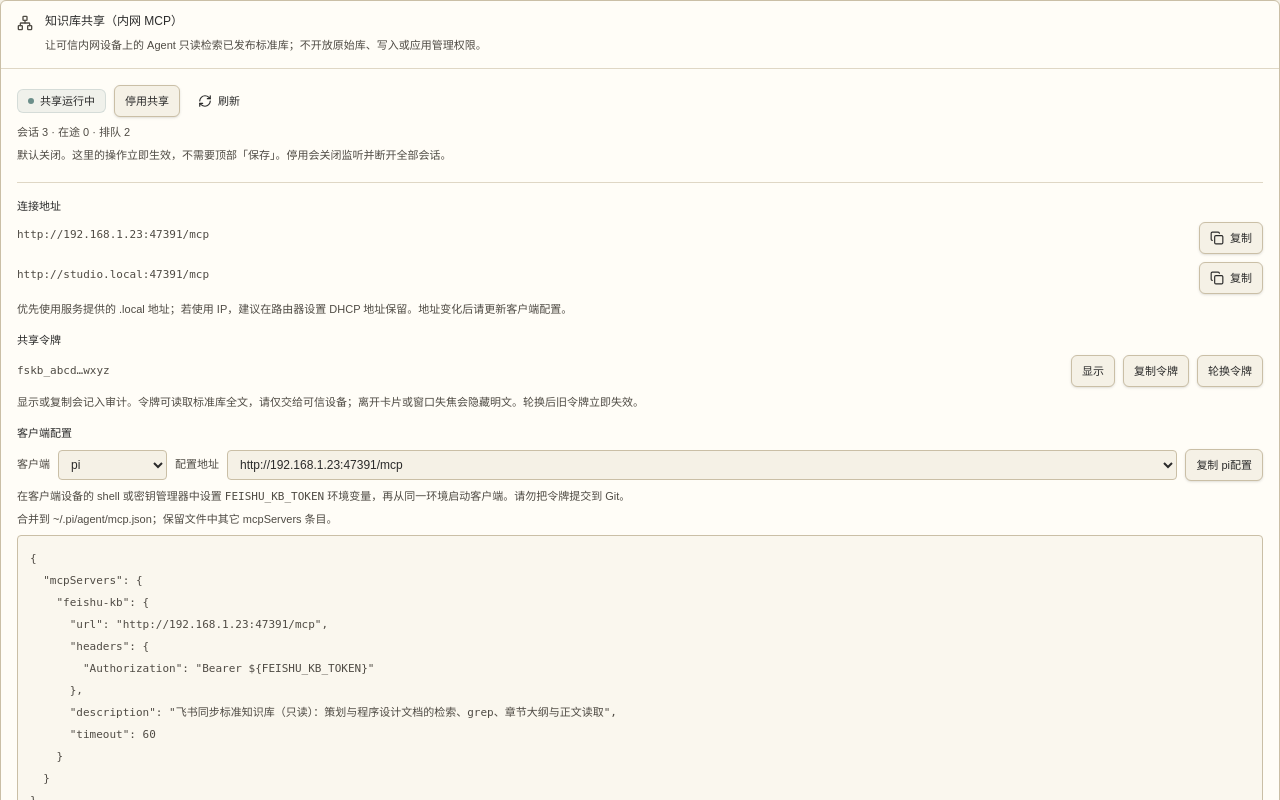
Test: 内网 MCP 设置交互（模拟管理 API） › 停用可选作废令牌，完成后从权威状态隐藏连接信息
The width and height of the screenshot is (1280, 800).
Click the button "停用共享". click: [147, 101]
box: [114,85,180,117]
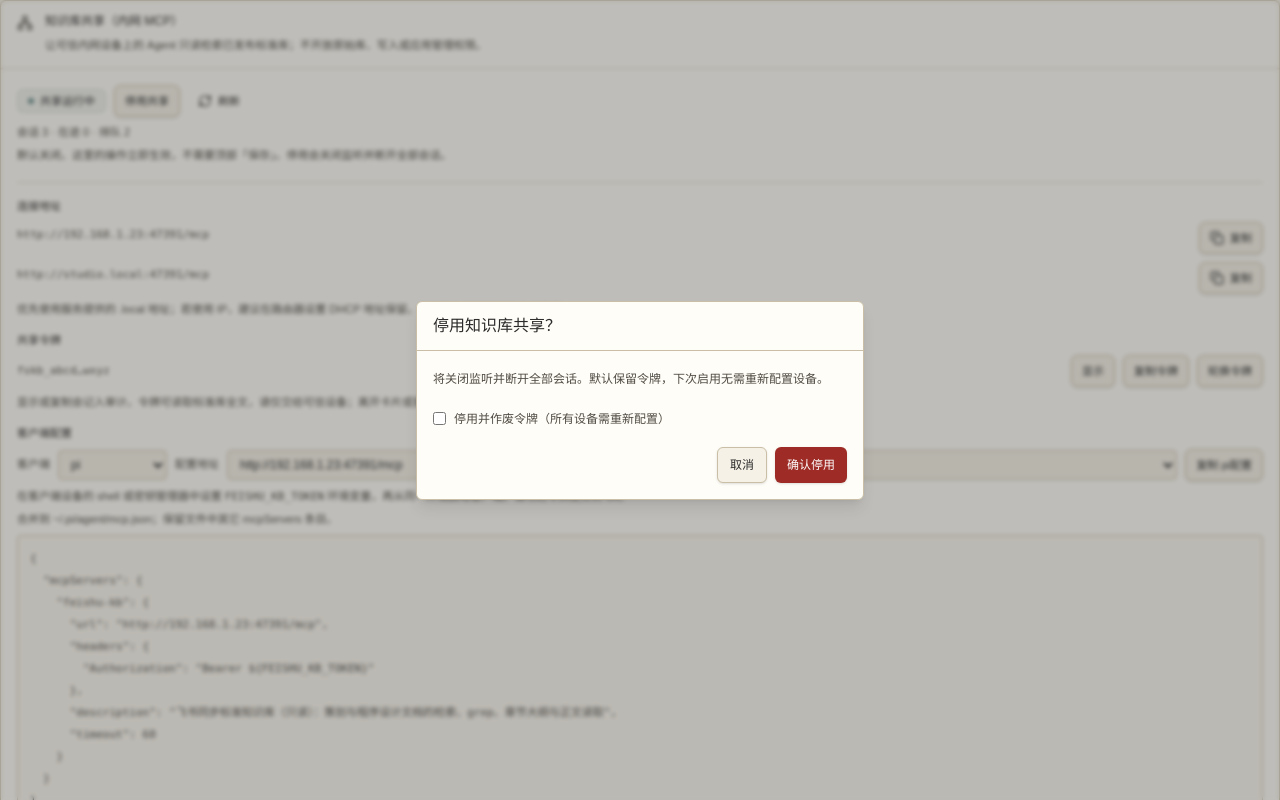
Click the checkbox labelled "停用并作废令牌（所有设备需重新配置）". click: [440, 418]
box: [433,412,446,425]
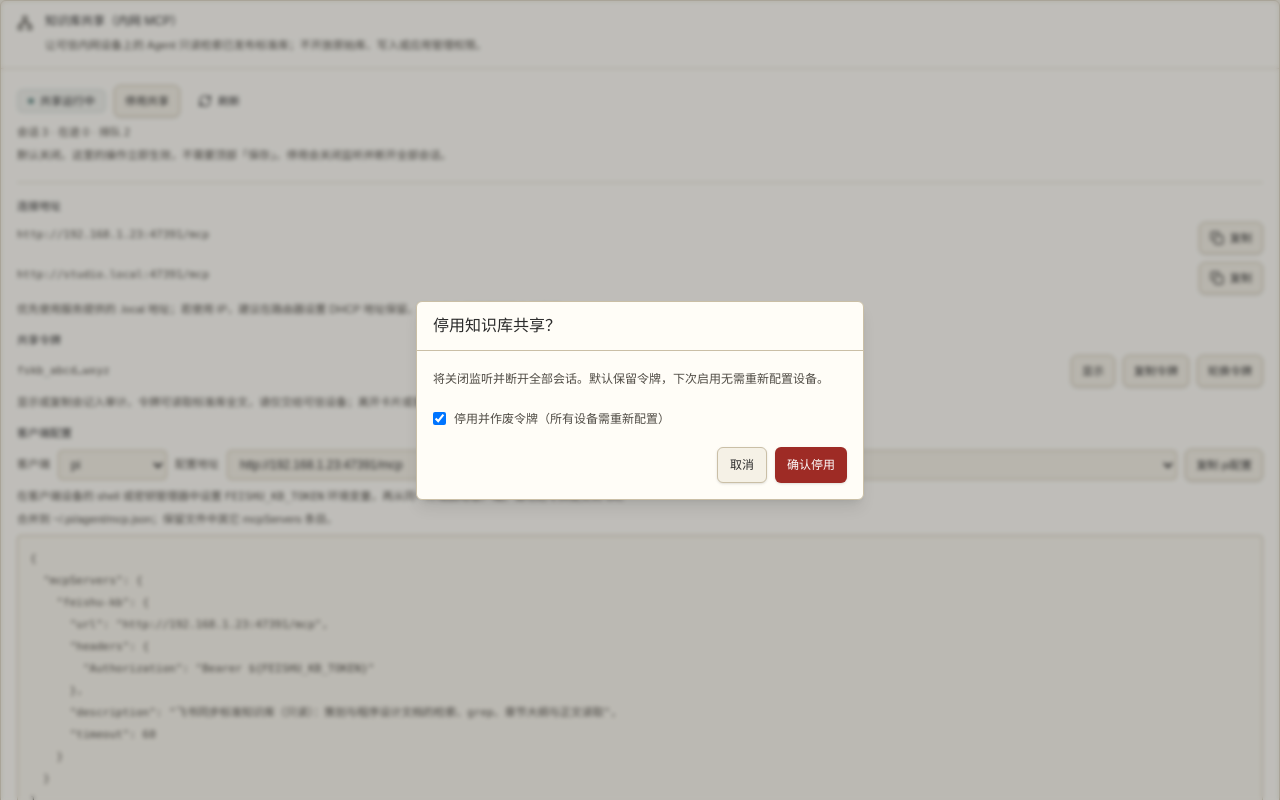
Click the button "确认停用". click: [811, 464]
box: [775,446,847,482]
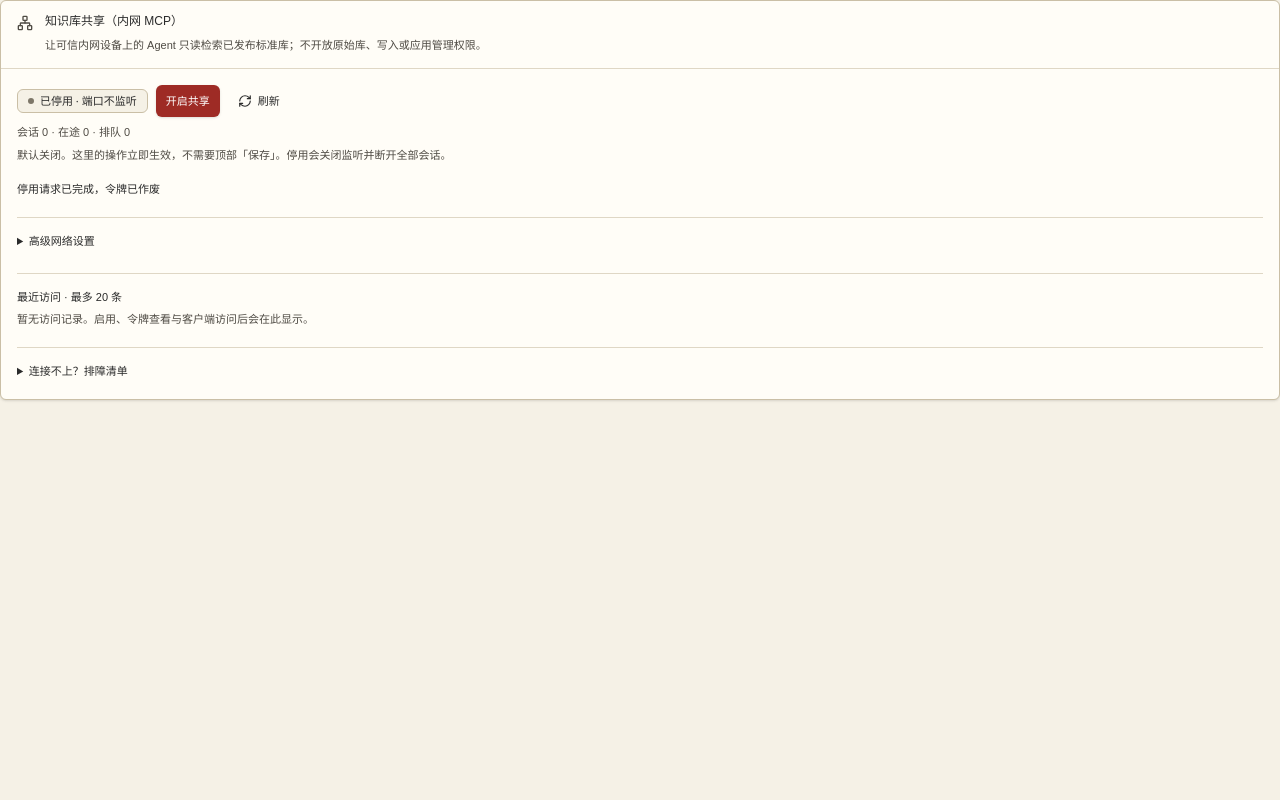
Result: the text "已停用" is shown at [40,93,137,108]
Result: the text named "共享令牌掩码" is gone
